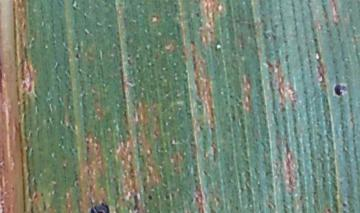tarspot: (88, 201, 110, 213), (334, 83, 348, 97), (147, 193, 154, 201), (74, 52, 81, 59)
